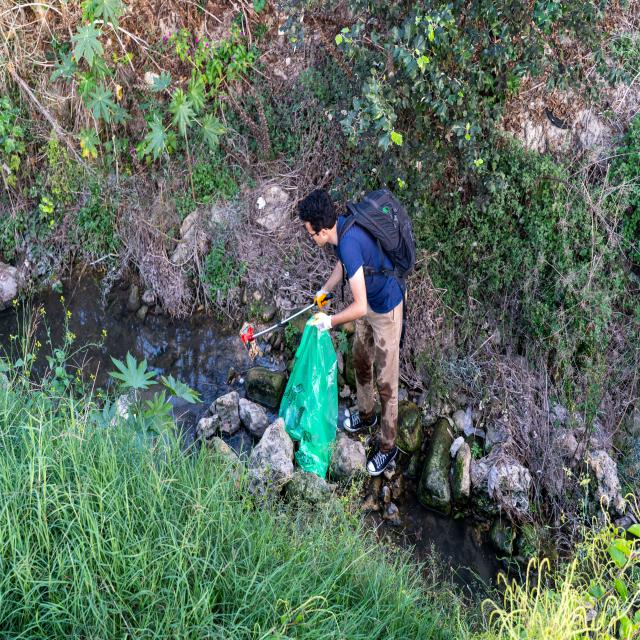Other plastic: (464, 404, 486, 439), (544, 107, 571, 128), (447, 427, 456, 441)
Plastic bag - wrapper: (278, 314, 340, 478), (238, 320, 262, 362)
